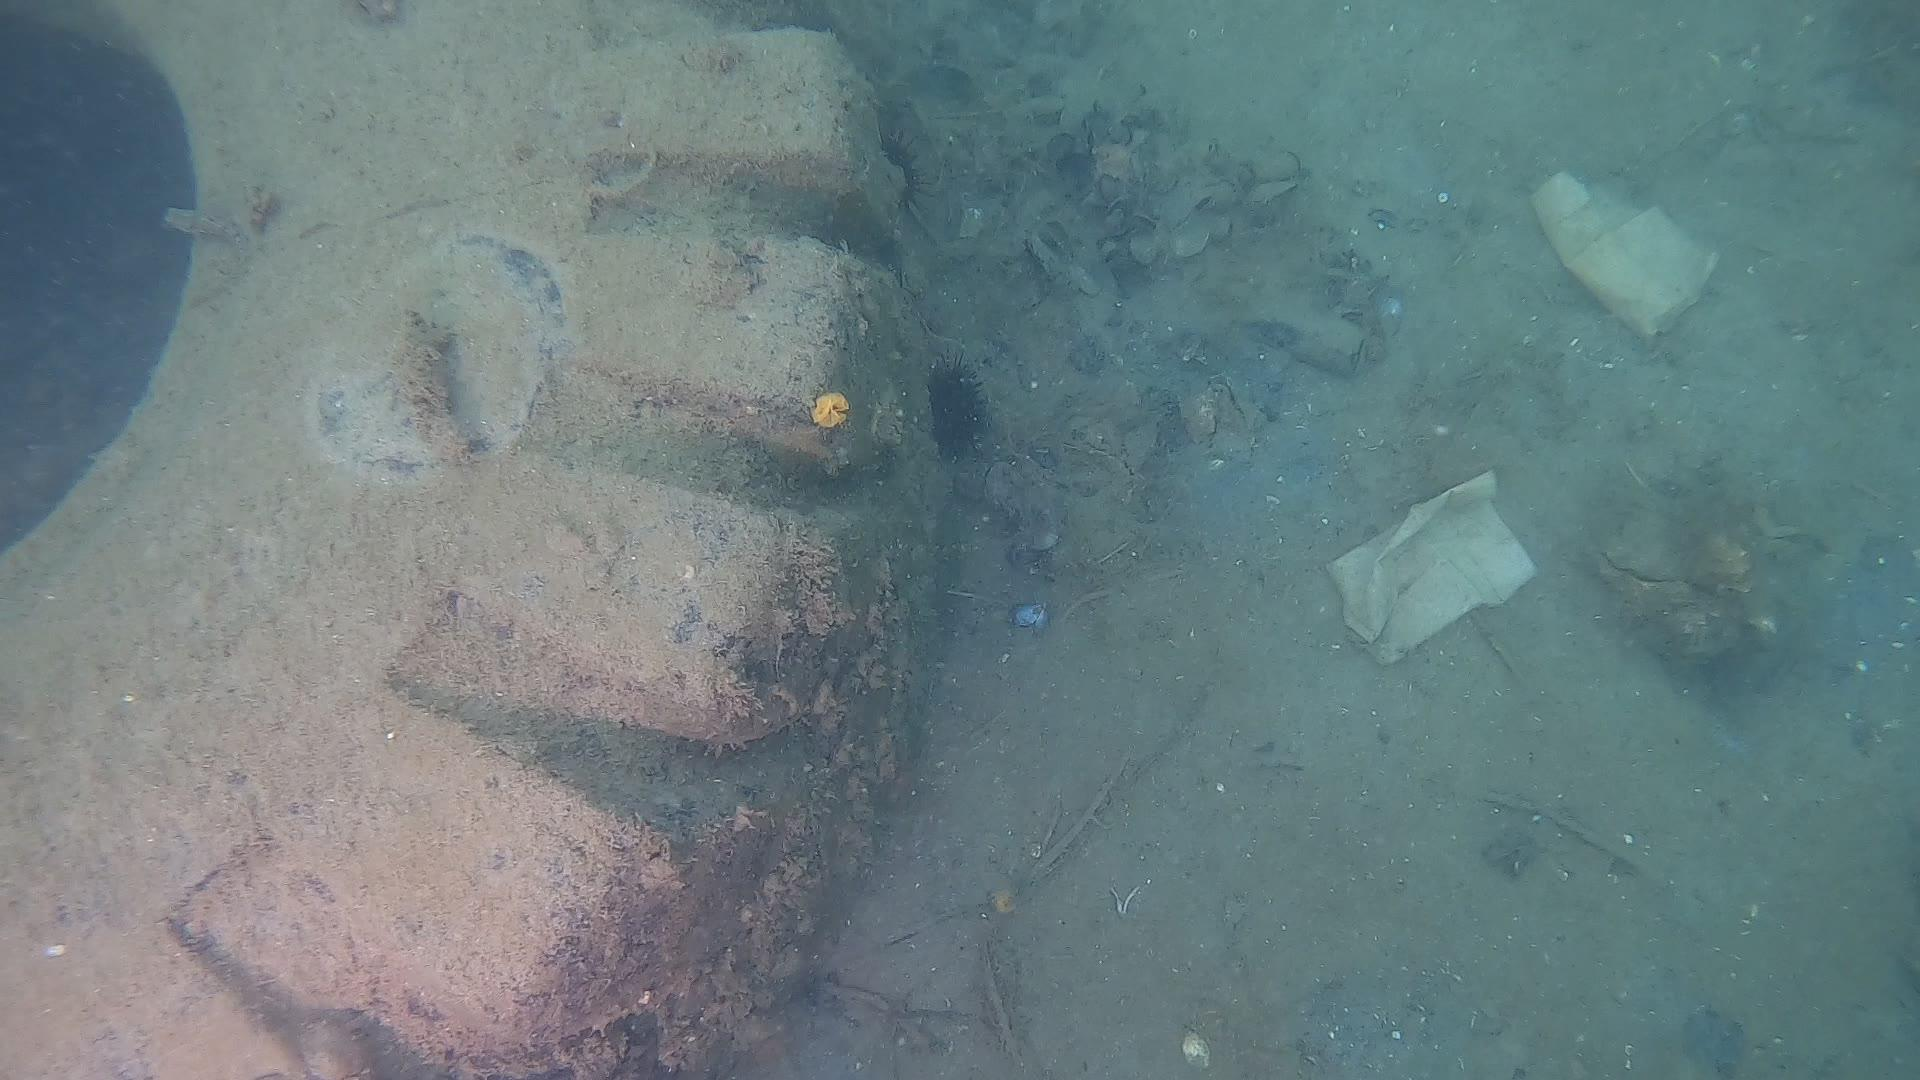tire: (0, 0, 942, 1080)
